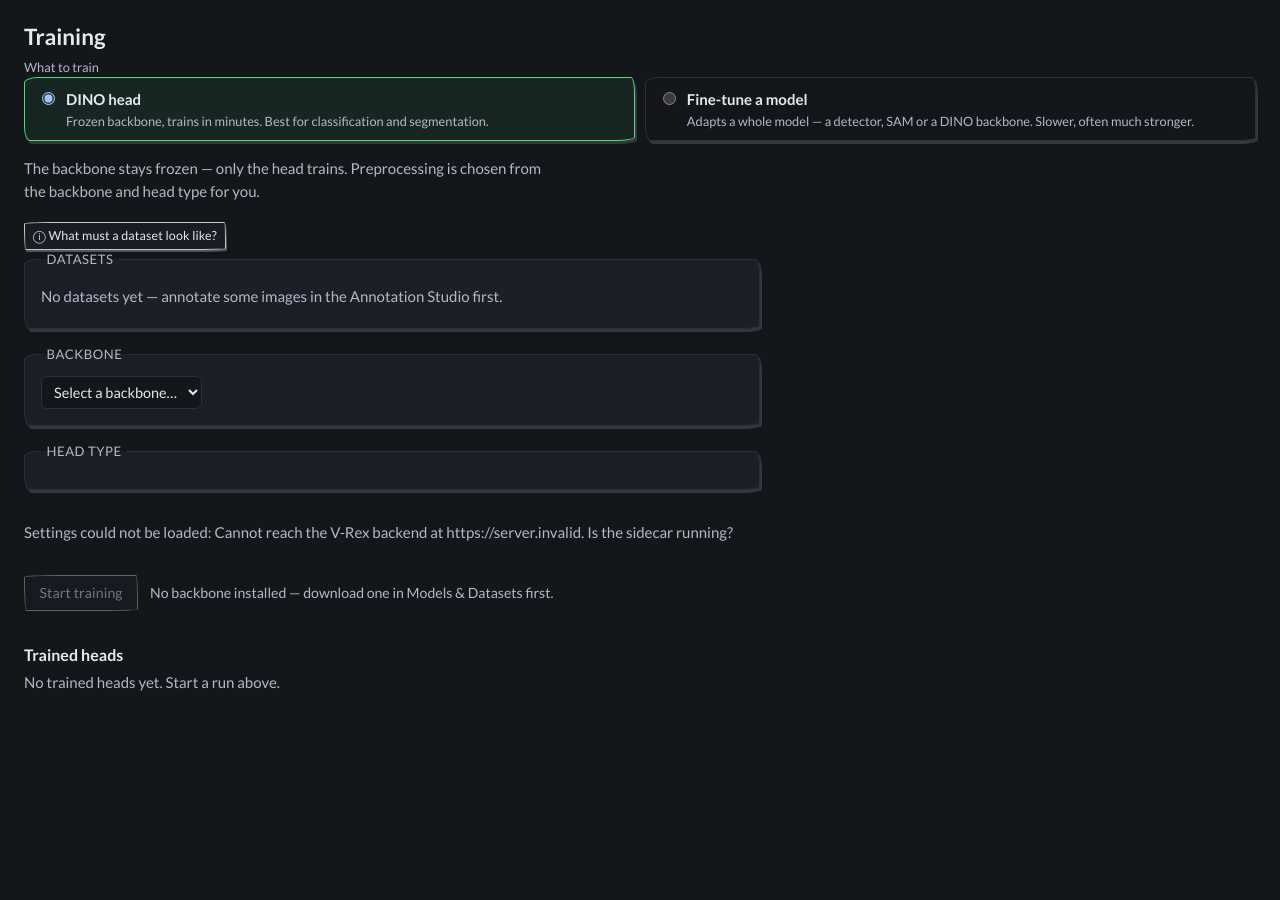
it: which one is showing › says why fine-tuning is worth the wait, with the number
Click the radio button labelled "Fine-tune a model". click: (669, 98)
box: [663,92,676,104]
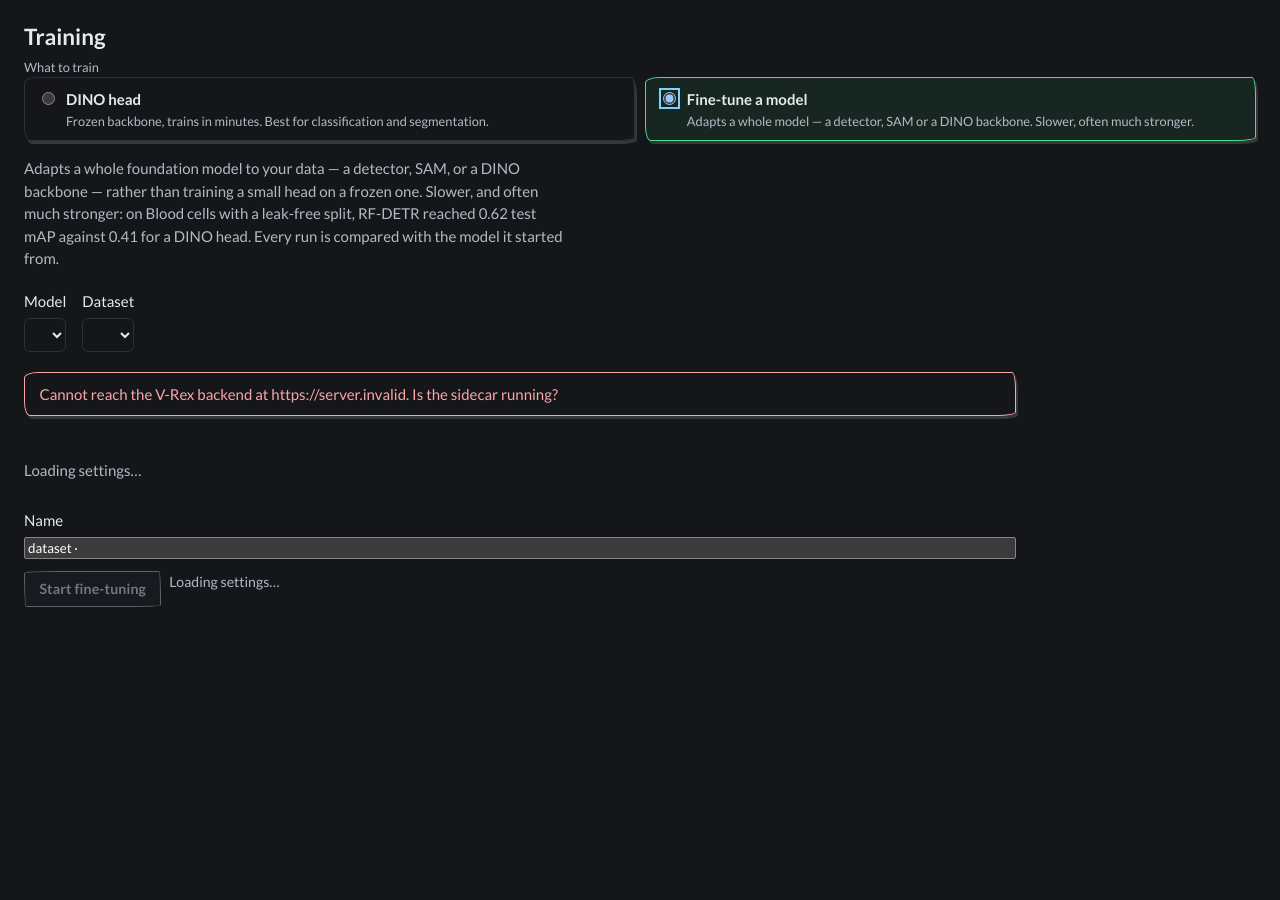
Now the text "0.62 test mAP against 0.41" is shown, box [24,159,563,267]
